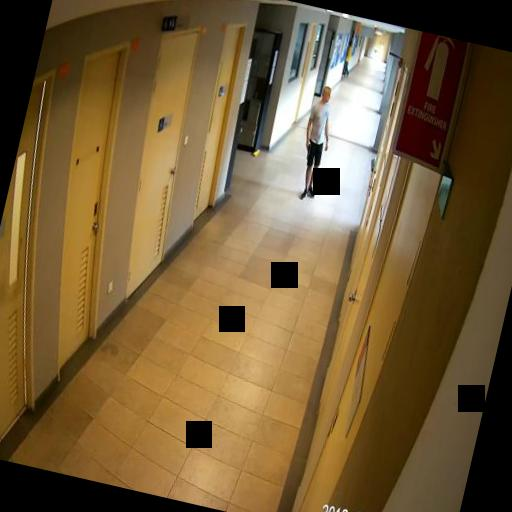Handgun: (302, 139, 312, 158)
